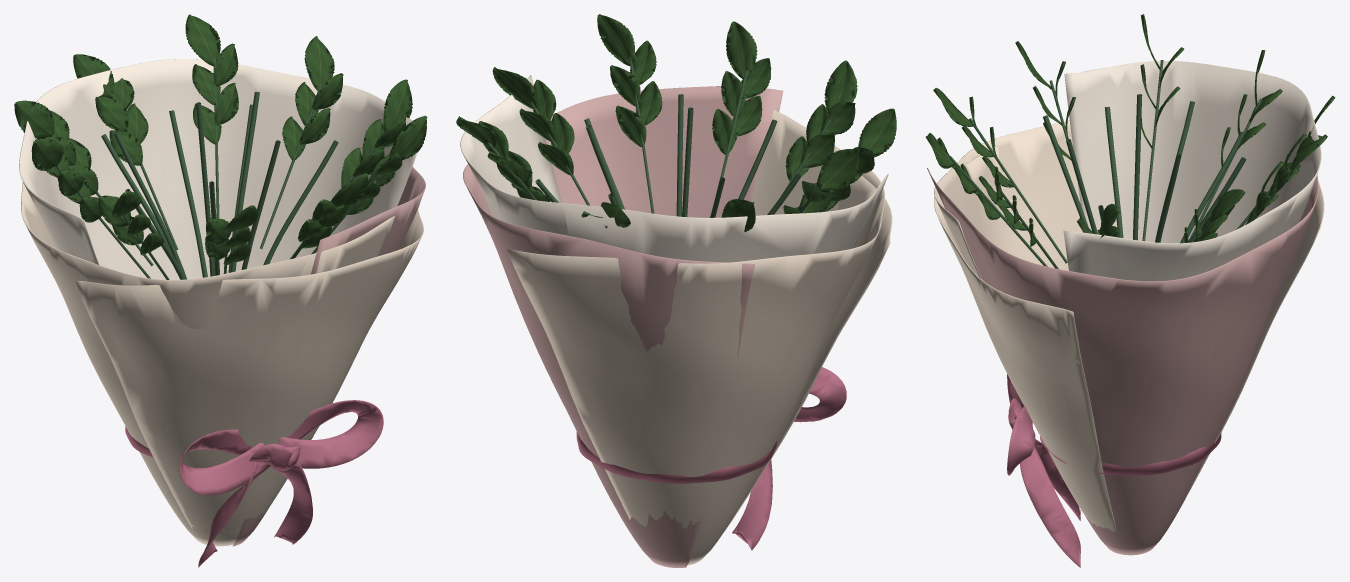
The model's file is accessories.glb.
3 views of the same model, side by side, from view 1: azimuth 30°, elevation 25°; view 2: azimuth 150°, elevation 25°; view 3: azimuth 270°, elevation 25° (orthographic). The views are drawn at different scales.
Visible parts, largest first — view 1: Paper_Ivory_Right, Tissue_Back, Serrated_Leaf_00_0, Satin_Loop_-1, Stem_01, Paper_Blush_Left; view 2: Paper_Ivory_Right, Paper_Blush_Left, Serrated_Leaf_00_0, Tissue_Back, Satin_Loop_-1, Stem_01; view 3: Paper_Blush_Left, Tissue_Back, Paper_Ivory_Right, Serrated_Leaf_00_0, Stem_01, Satin_Loop_-1.
Part boxes in pixels (bbox=[...]): Paper_Ivory_Right: bbox=[21, 182, 423, 546]; Tissue_Back: bbox=[19, 59, 417, 279]; Serrated_Leaf_00_0: bbox=[14, 14, 427, 265]; Satin_Loop_-1: bbox=[125, 400, 383, 567]; Stem_01: bbox=[52, 57, 393, 279]; Paper_Blush_Left: bbox=[233, 167, 425, 546]; Paper_Ivory_Right: bbox=[507, 110, 892, 565]; Paper_Blush_Left: bbox=[463, 86, 783, 567]; Serrated_Leaf_00_0: bbox=[456, 14, 896, 231]; Tissue_Back: bbox=[460, 75, 888, 262]; Satin_Loop_-1: bbox=[576, 367, 846, 550]; Stem_01: bbox=[487, 57, 830, 228]; Paper_Blush_Left: bbox=[927, 168, 1318, 555]; Tissue_Back: bbox=[1063, 61, 1321, 281]; Paper_Ivory_Right: bbox=[934, 119, 1324, 531]; Serrated_Leaf_00_0: bbox=[925, 14, 1335, 246]; Stem_01: bbox=[950, 60, 1292, 268]; Satin_Loop_-1: bbox=[1007, 374, 1221, 567].
Size of the model in its own units: 2.14 by 2.44 by 2.05.
Materials: 6 (1 with a texture image).
